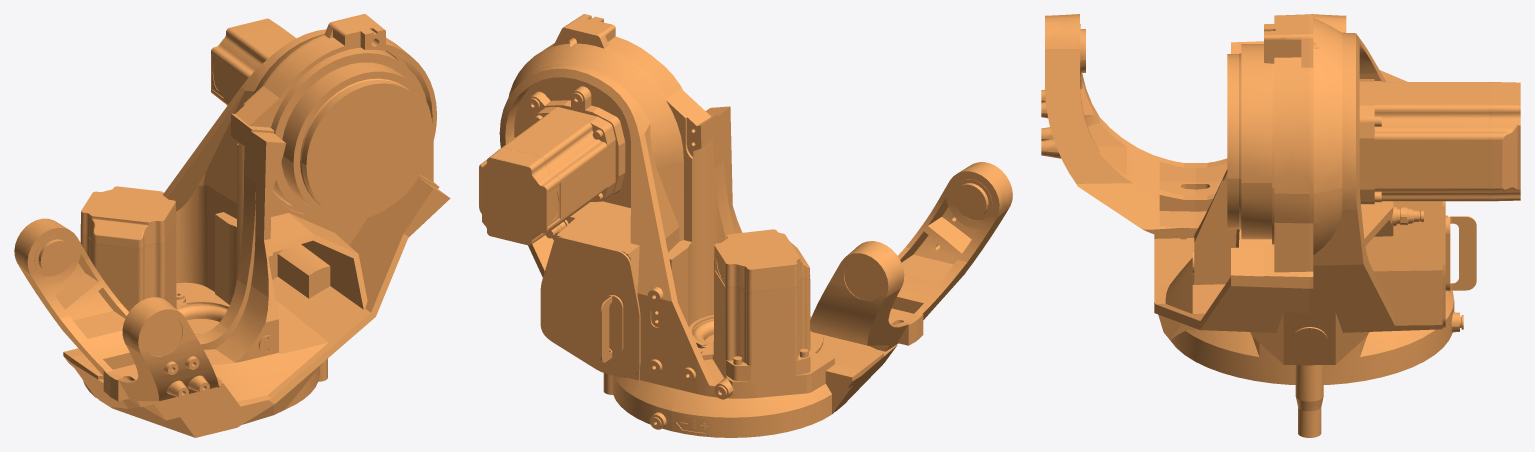
3 views of the same model, side by side, from view 1: azimuth 30°, elevation 25°; view 2: azimuth 150°, elevation 25°; view 3: azimuth 270°, elevation 25° (orthographic). The views are drawn at different scales.
Visible parts, largest first — view 1: mesh_0; view 2: mesh_0; view 3: mesh_0.
Part boxes in pixels (x1,y1,x2,y2): mesh_0: (14,14,450,437); mesh_0: (479,14,1012,437); mesh_0: (1041,14,1520,437).
Bounding box in the file's own units: 0.9431 × 0.8005 × 0.8145.
